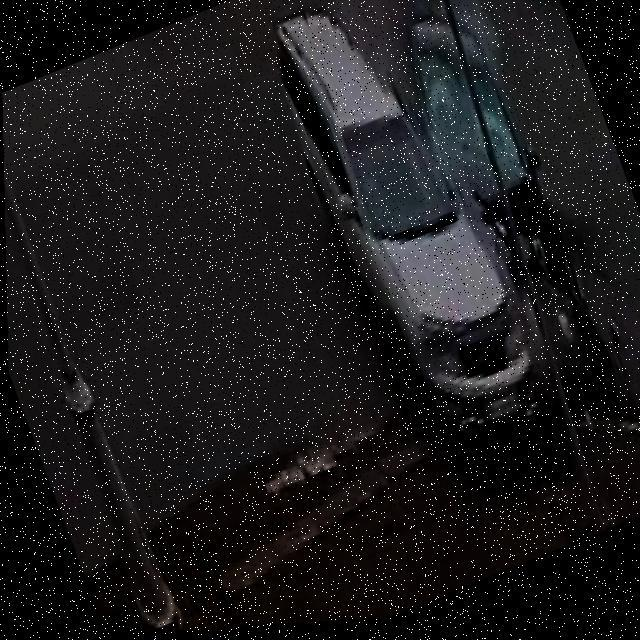Car Accident Detector - v4 Generation1 Exported: (223, 0, 622, 527)
